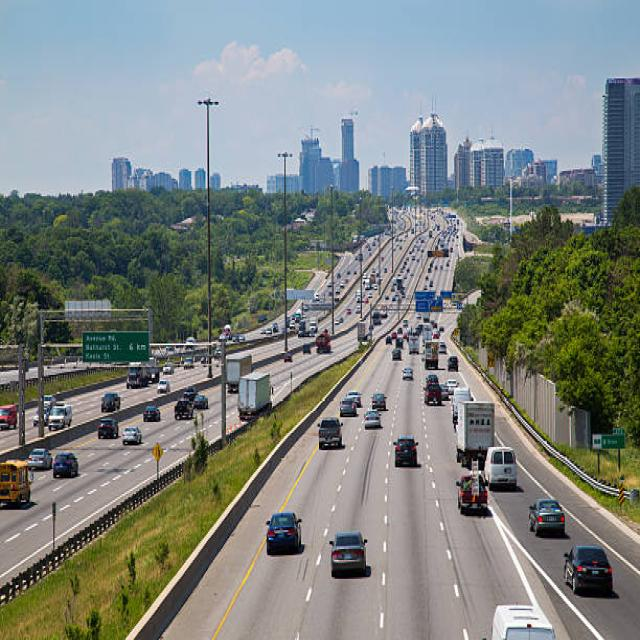16-Wheelers: (455, 398, 495, 466), (237, 370, 272, 419)
Bus: (0, 458, 31, 506)
Car: (562, 544, 612, 594), (328, 530, 367, 576), (266, 511, 301, 554), (527, 498, 565, 536), (317, 416, 342, 448), (394, 434, 418, 466), (52, 452, 78, 477), (26, 447, 52, 469), (97, 417, 118, 438), (174, 397, 194, 419), (100, 391, 120, 411), (121, 425, 141, 444), (338, 397, 356, 416), (364, 408, 381, 427), (371, 392, 386, 410), (143, 405, 160, 420), (157, 378, 169, 392), (402, 366, 413, 380)
Traffic-sign: (80, 329, 150, 364)
